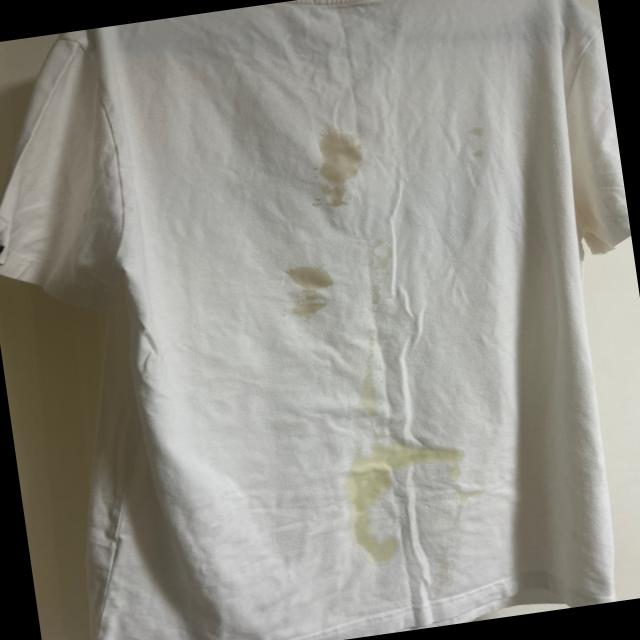stain: (326, 433, 454, 569), (310, 126, 376, 209), (414, 429, 476, 495), (276, 259, 338, 324), (340, 348, 390, 424), (436, 467, 492, 508), (361, 237, 389, 311), (465, 140, 499, 171), (468, 118, 490, 140)
